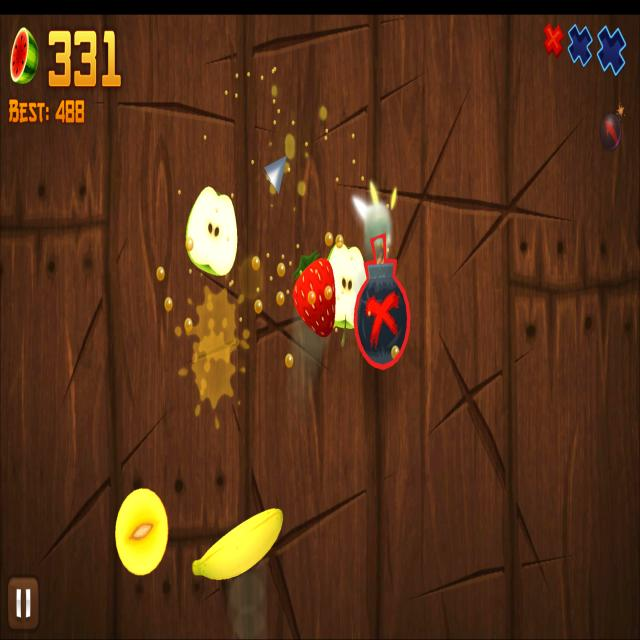bomb: (354, 234, 412, 370)
fruit: (192, 507, 283, 581), (294, 249, 337, 338)
